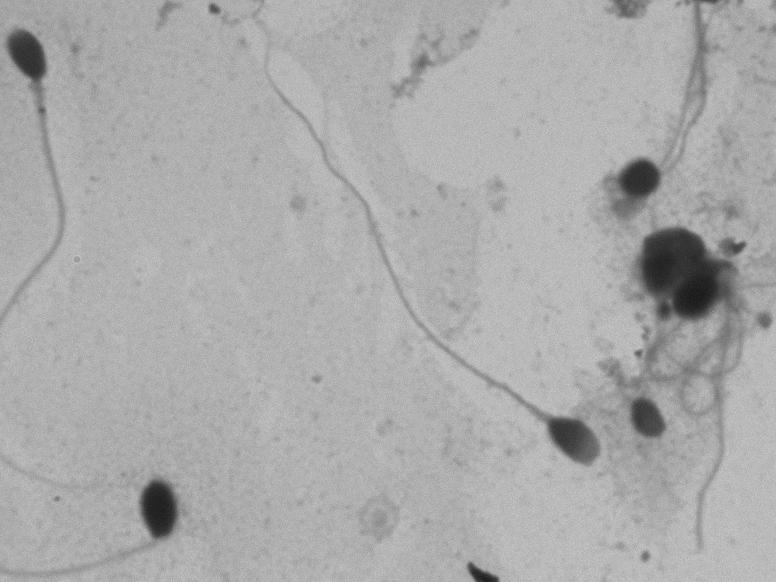Abnormal: (19, 450, 223, 568)
Normal: (229, 17, 601, 488)
